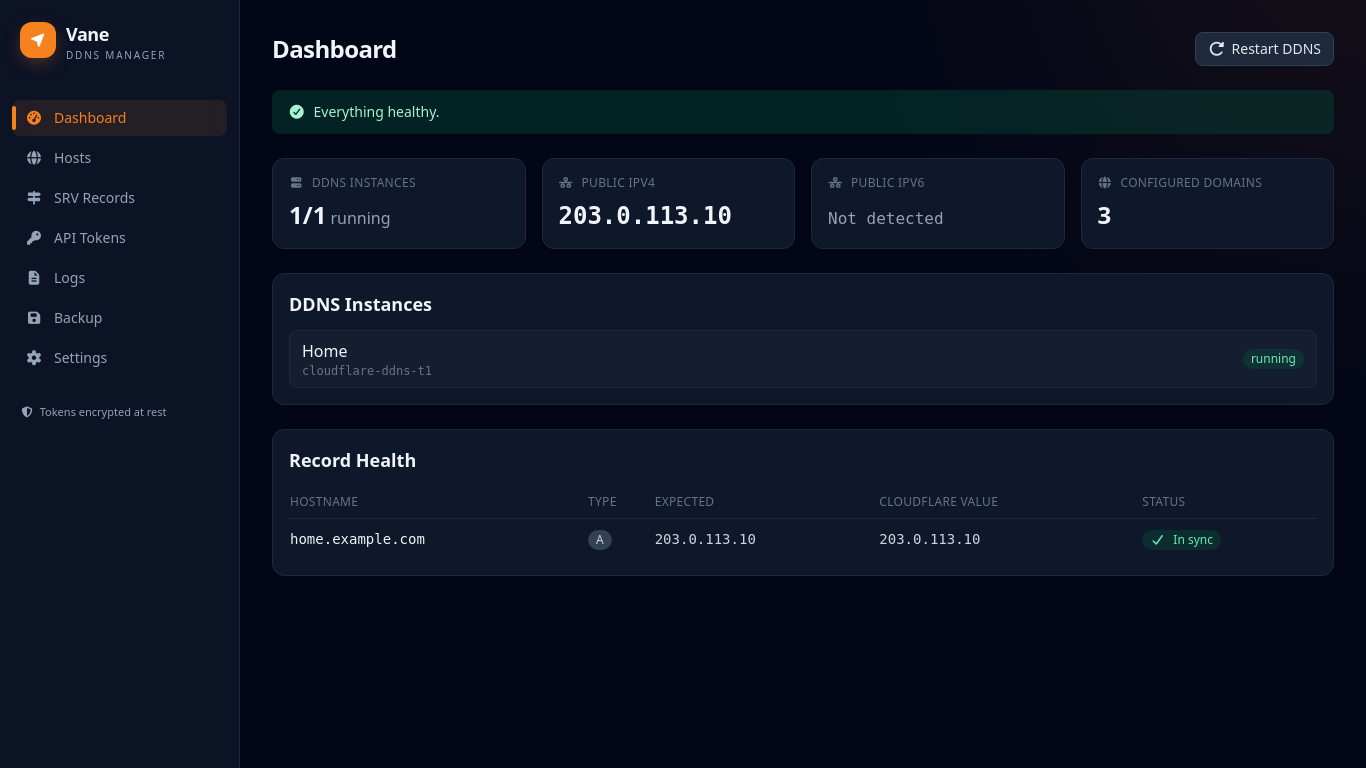
Scenario: main UI flows › loads the dashboard and can request a restart
Expected: the text "Everything healthy." is shown, [272,90,1334,134]
Click the button "Restart DDNS": (1264, 49) [1195,32,1334,66]
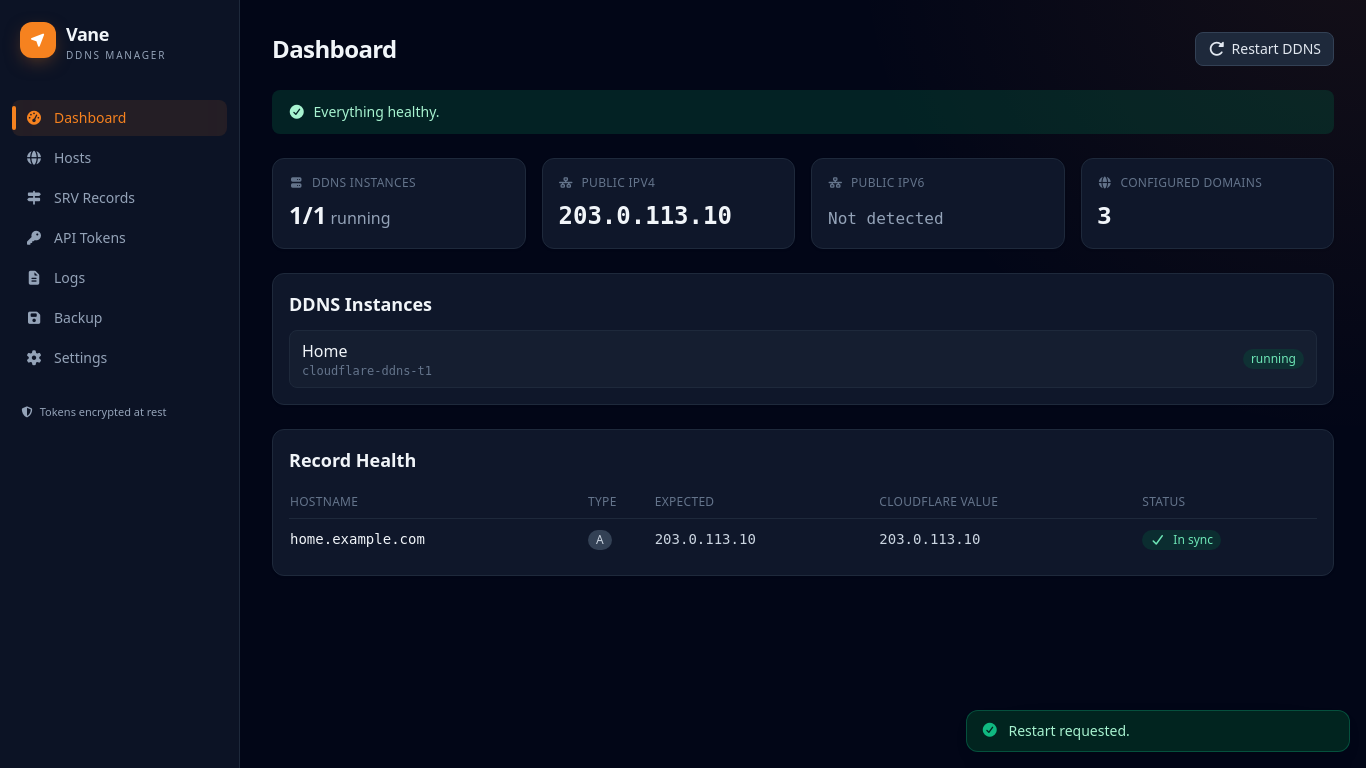
Result: the text "Restart requested." is shown at [1008,721,1130,741]
